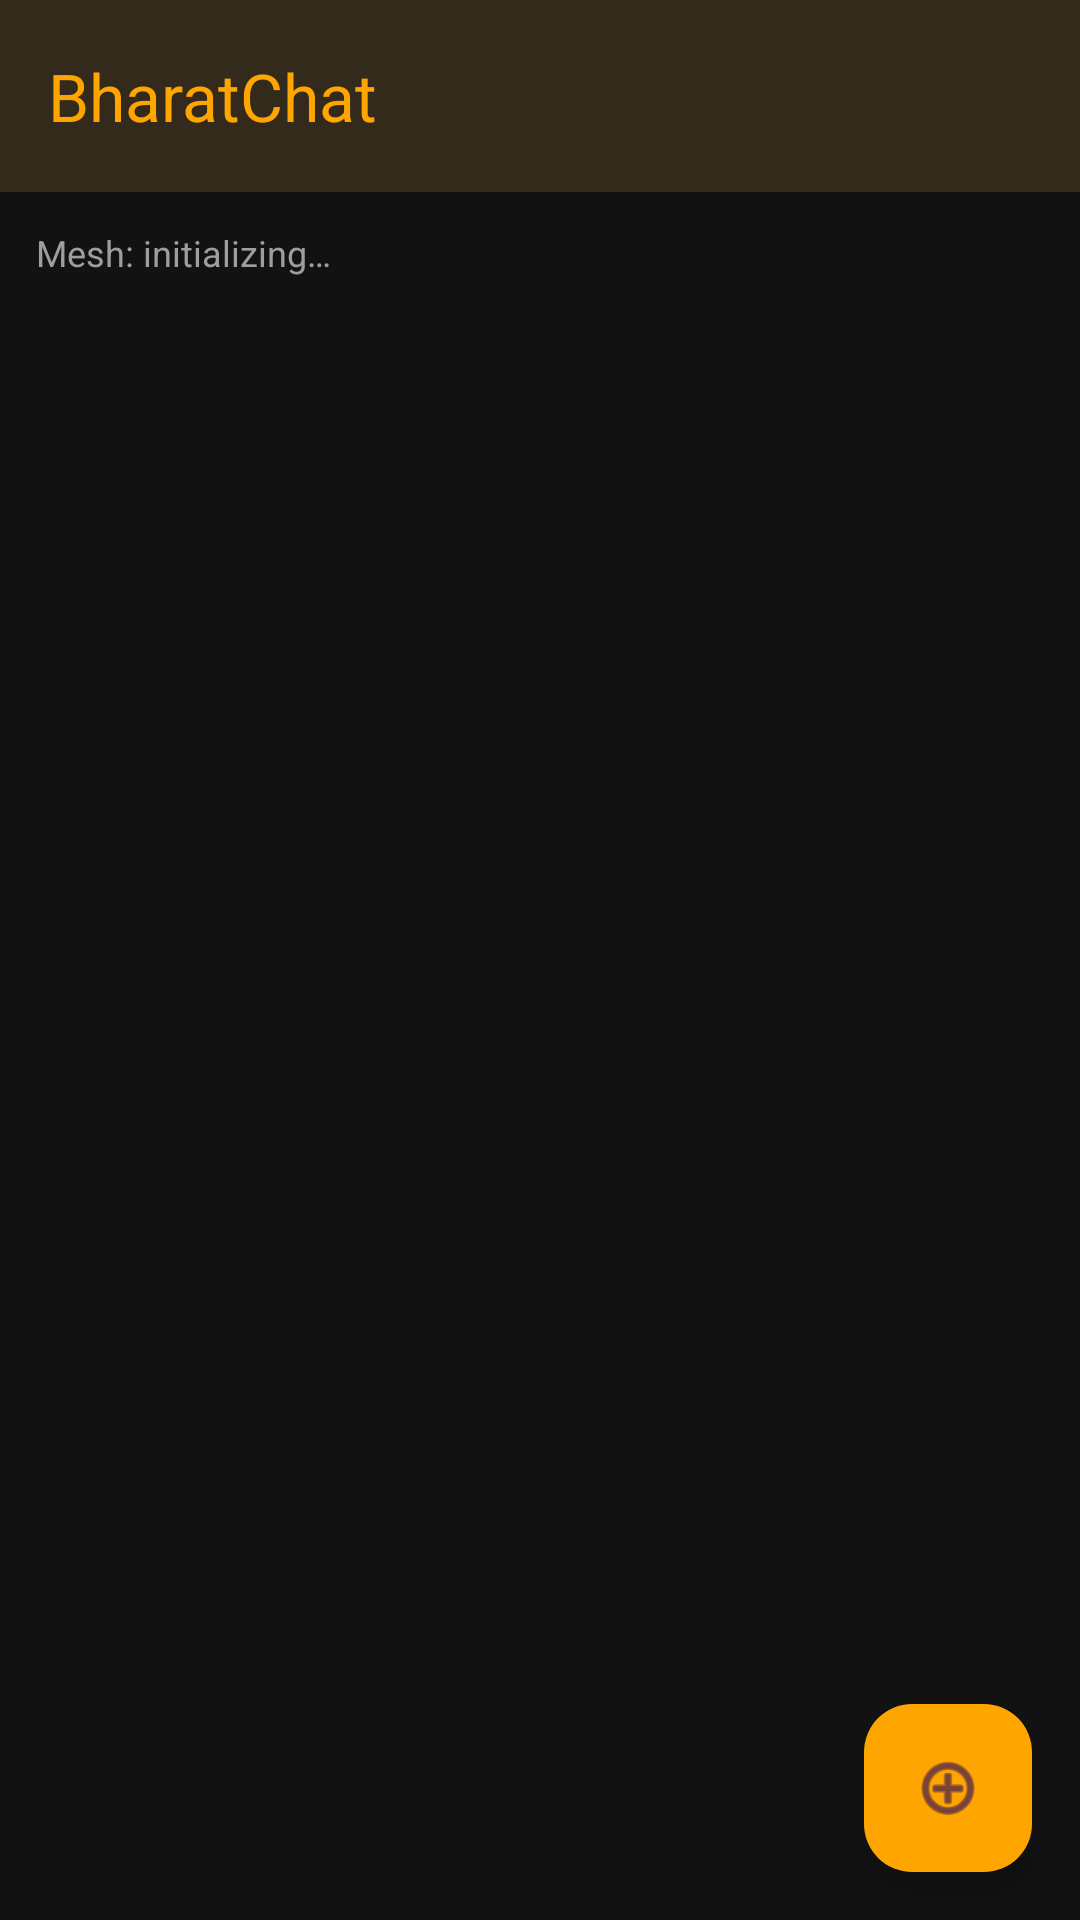

Icons on this 1080*1920 Android screen, each with its box as (x1, y1, x2, y2):
Add Contact: (864, 1704, 1032, 1872)
